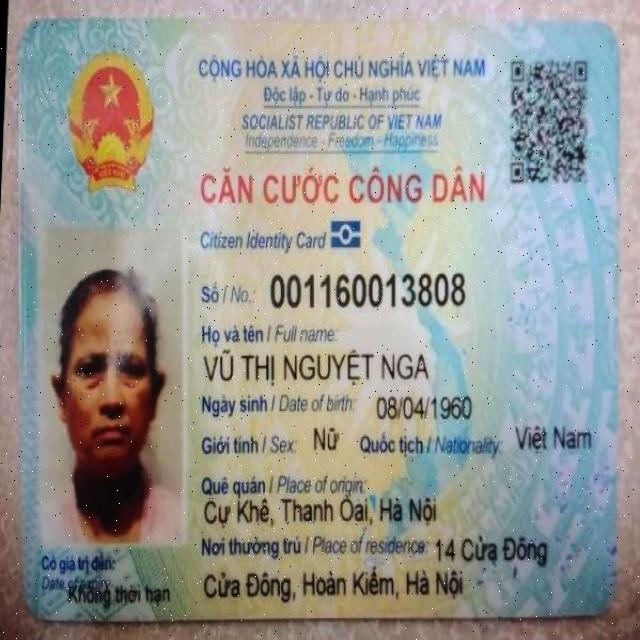current_place: (203, 565, 469, 605), (433, 528, 551, 568)
dob: (374, 393, 477, 419)
expire_date: (66, 579, 174, 604)
gender: (311, 420, 346, 454)
id: (268, 270, 466, 308)
name: (201, 348, 431, 384)
nationality: (510, 422, 596, 460)
origin_place: (202, 497, 438, 529)
qr: (507, 54, 590, 190)
